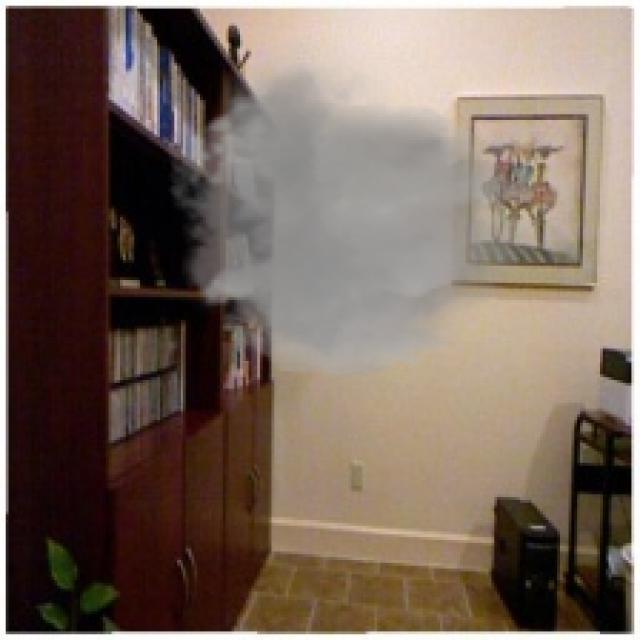Smoke: (152, 37, 552, 386)
